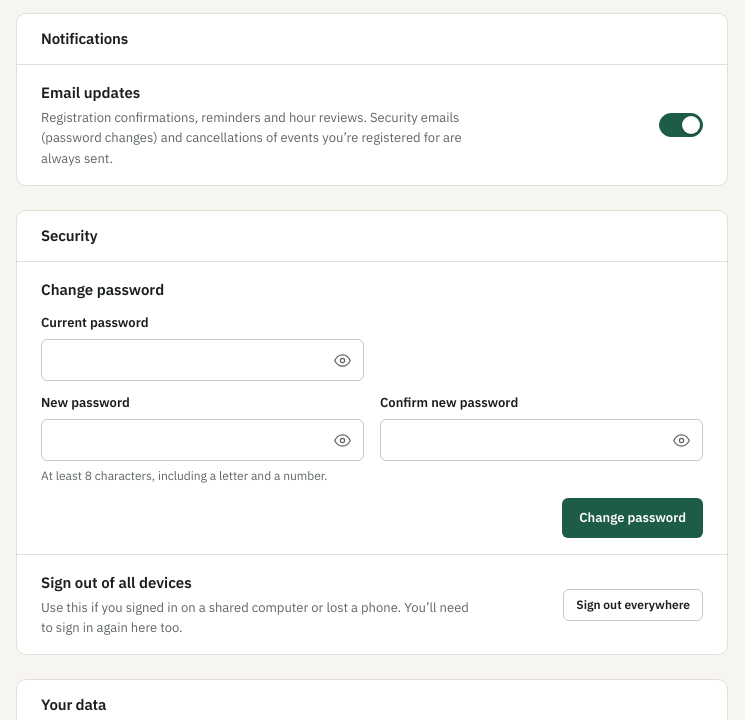
Test: Account settings › changes the password and keeps this session with the new token
(page scrolled)
In the password field labelled "Current password": (202, 360) [41,339,364,381], type "OldPass123"
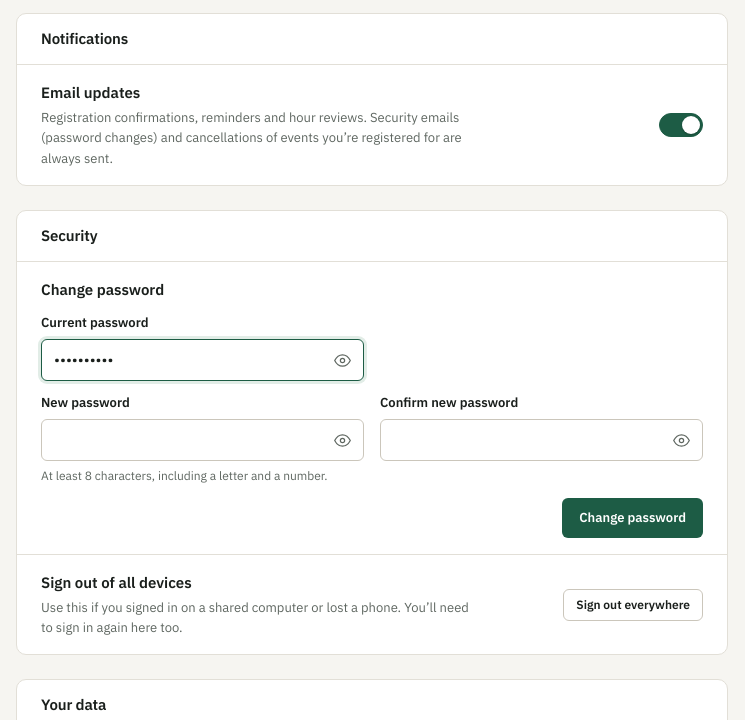
In the password field labelled "New password": (202, 440) [41,419,364,461], type "NewPass456"
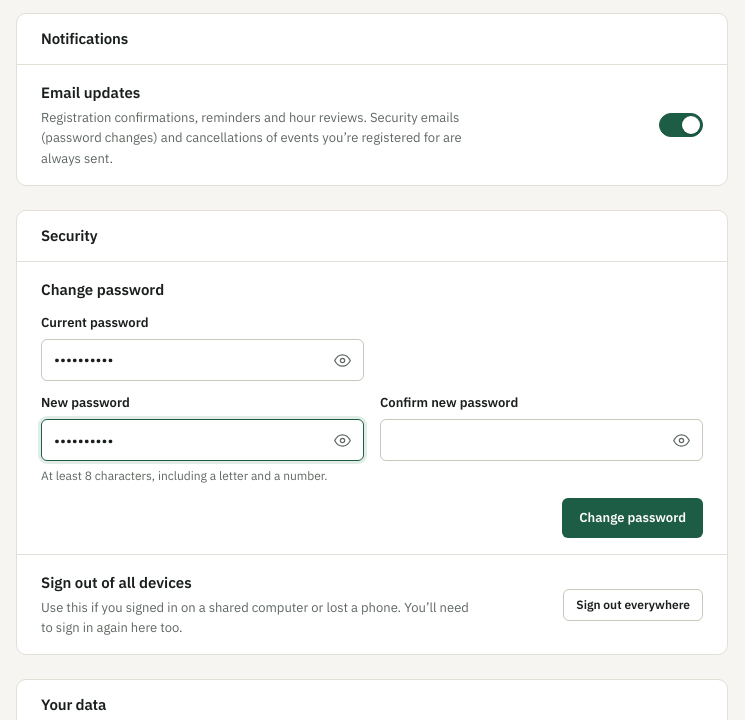
In the password field labelled "Confirm new password": (542, 440) [380,419,703,461], type "NewPass456"
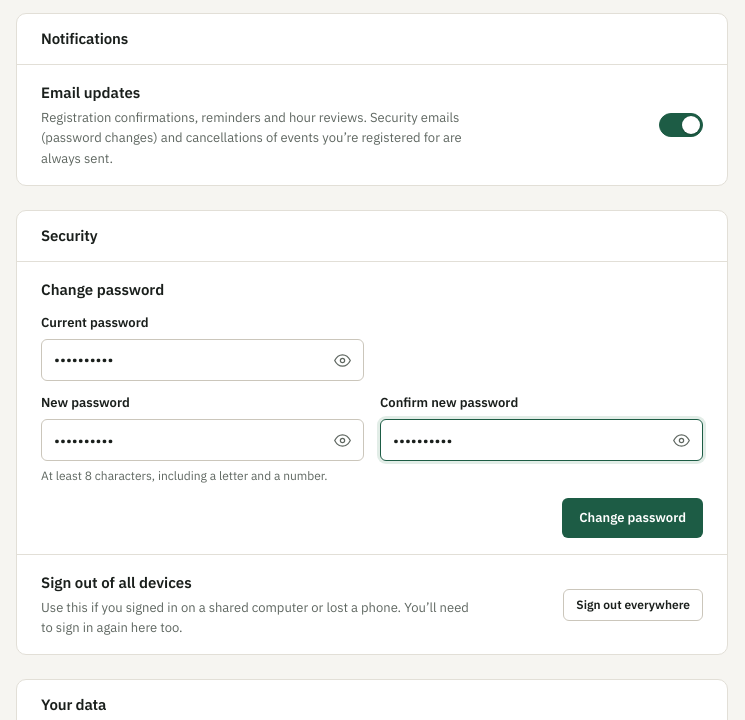
Click the button "Change password": (633, 518) [562,498,703,538]
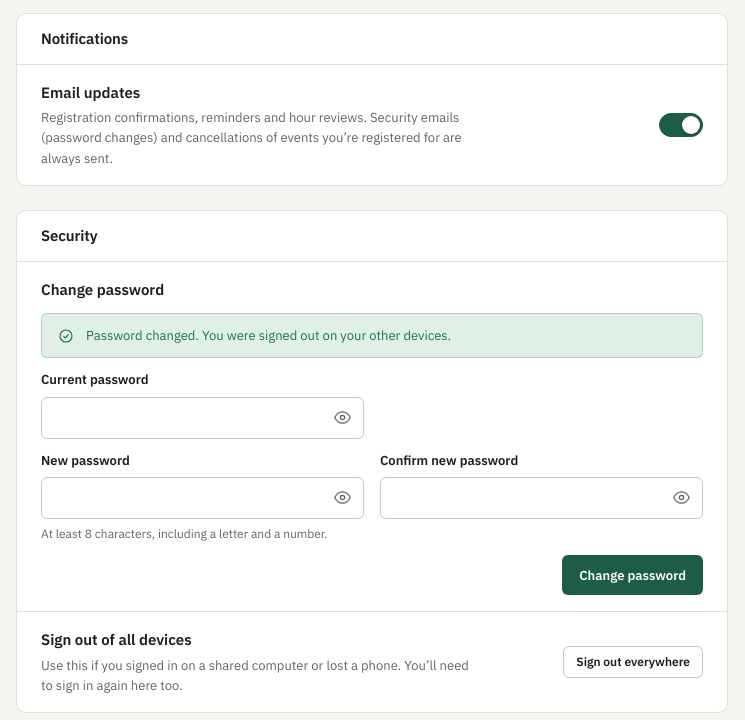
Now the text "Password changed. You were signed out on your other devices." is shown, box [86,327,451,344]
